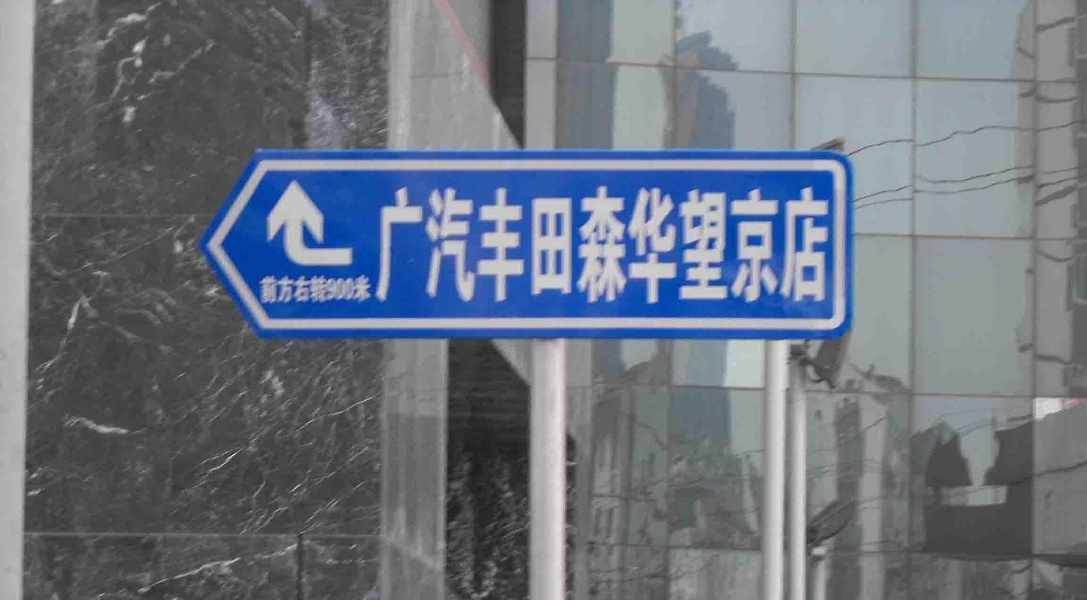text: (385, 182, 400, 302), (401, 182, 416, 302), (417, 182, 432, 302), (433, 182, 448, 302), (449, 182, 464, 302), (465, 182, 480, 302), (481, 182, 496, 302), (497, 182, 512, 302), (513, 182, 528, 302), (529, 182, 544, 302), (545, 182, 560, 302), (561, 182, 576, 302), (577, 182, 592, 302), (593, 182, 608, 302), (609, 182, 624, 302), (625, 182, 640, 302), (641, 182, 656, 302), (657, 182, 672, 302), (673, 182, 688, 302), (689, 182, 704, 302), (705, 182, 720, 302), (721, 182, 736, 302), (737, 182, 752, 302), (753, 182, 768, 302), (769, 182, 784, 302), (785, 182, 800, 302), (801, 182, 816, 302), (817, 182, 832, 302), (374, 182, 384, 302), (273, 276, 288, 303), (289, 276, 304, 303), (305, 276, 320, 303), (321, 276, 336, 303), (337, 276, 352, 303), (353, 276, 368, 303), (258, 276, 272, 303), (369, 276, 373, 303)
